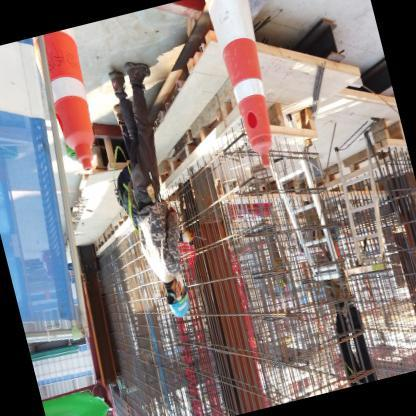safety-shoe: (124, 57, 155, 89), (105, 64, 127, 95)
